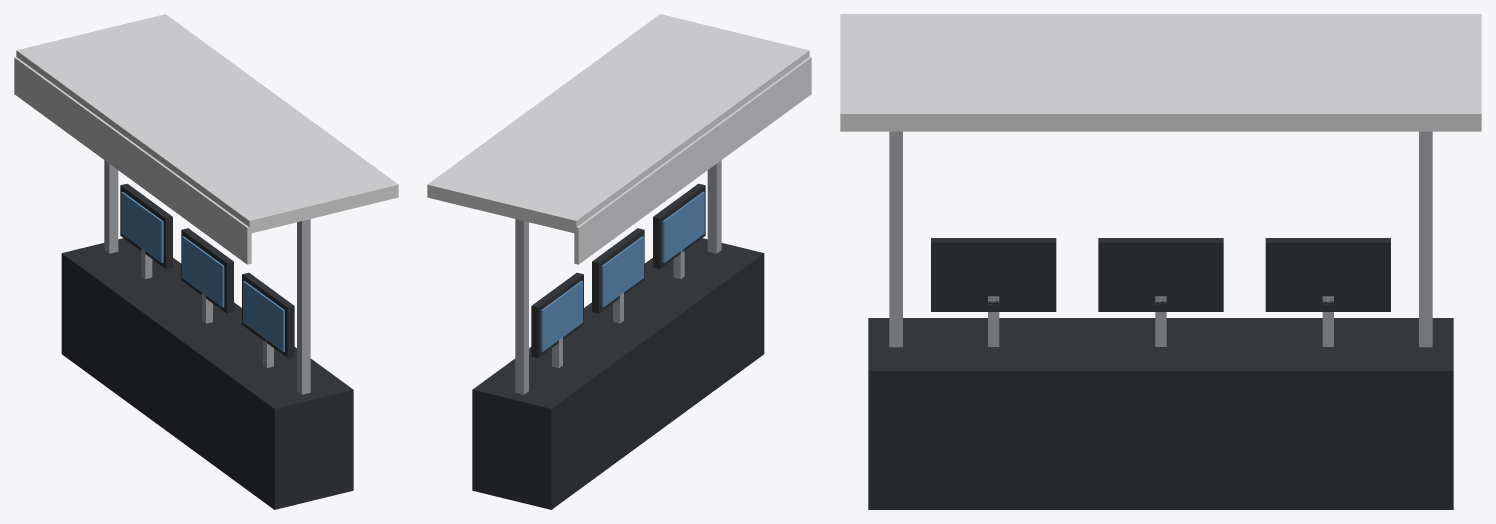
File: bancada_2.glb
The picture shows the model from 3 angles, left to right: view 1: azimuth 30°, elevation 25°; view 2: azimuth 150°, elevation 25°; view 3: azimuth 270°, elevation 25°; orthographic projection. The views are drawn at different scales.
Parts seen in each view (by area): view 1: cor, esc, tel, aco; view 2: cor, esc, tel, aco; view 3: esc, cor, aco.
Boxes of the visible parts, x1,y1,x2,y2 form: cor: (14,14,398,264); esc: (61,183,353,509); tel: (121,192,284,351); aco: (104,160,310,394); cor: (427,14,811,264); esc: (472,183,764,509); tel: (541,192,704,351); aco: (515,160,721,394); esc: (868,238,1453,509); cor: (840,14,1481,131); aco: (889,131,1432,347).
Size of the model in its own units: 1.73 by 3.32 by 4.6.
